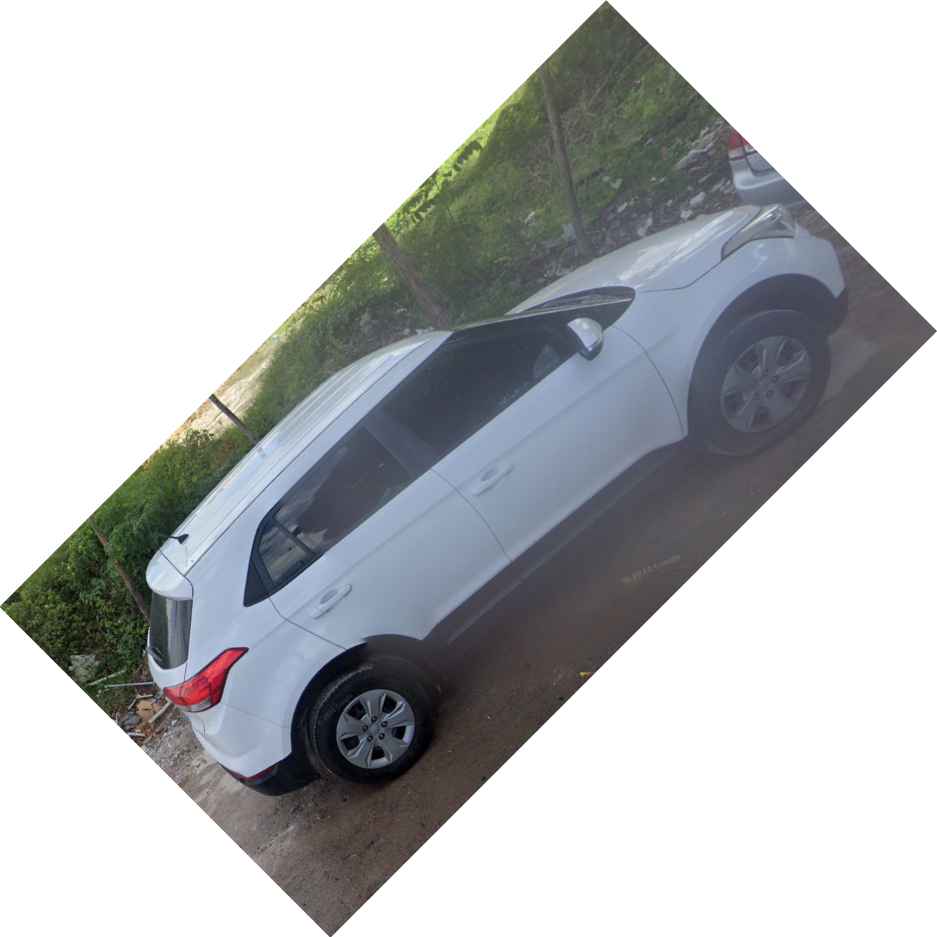car: (136, 198, 849, 793)
